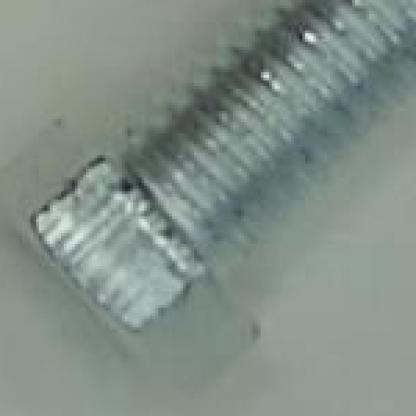FOD: (8, 3, 402, 402)
